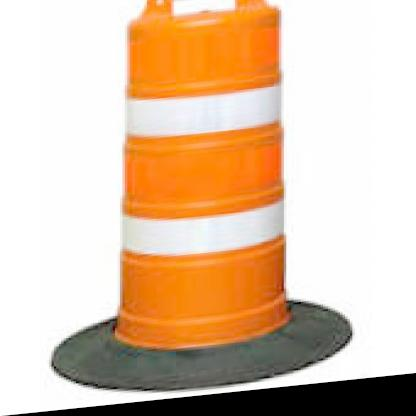obstacle: (102, 0, 315, 373)
